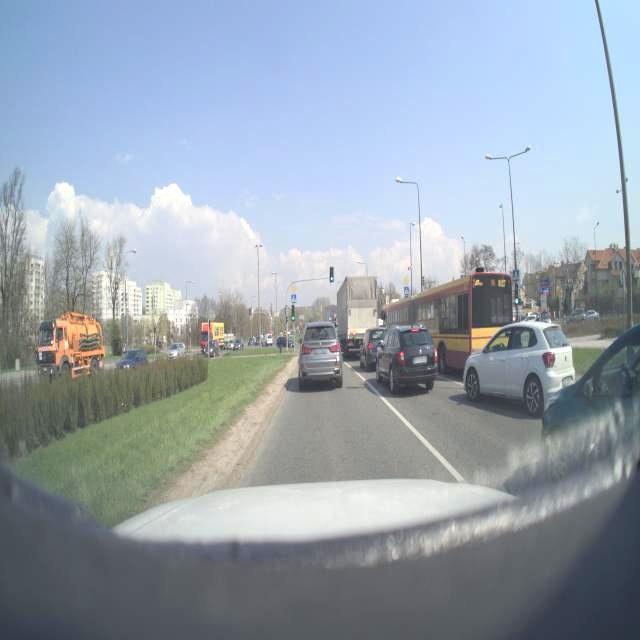Green: (290, 304, 296, 322), (329, 266, 335, 284)
